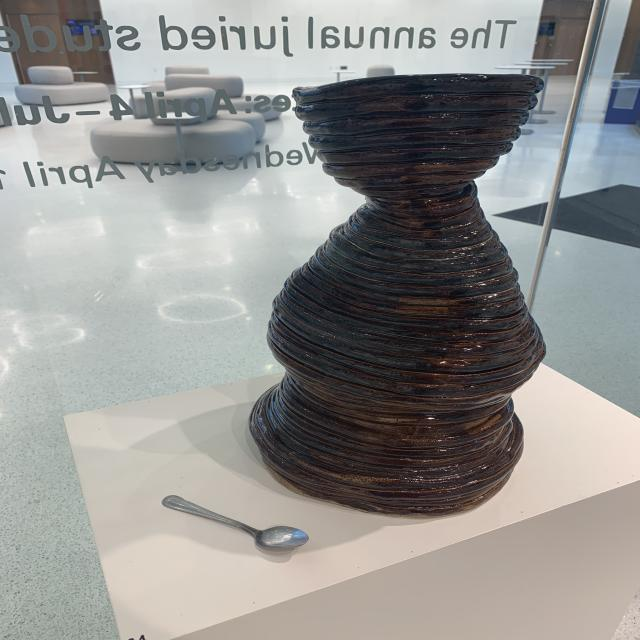Spoon: (150, 489, 316, 567)
